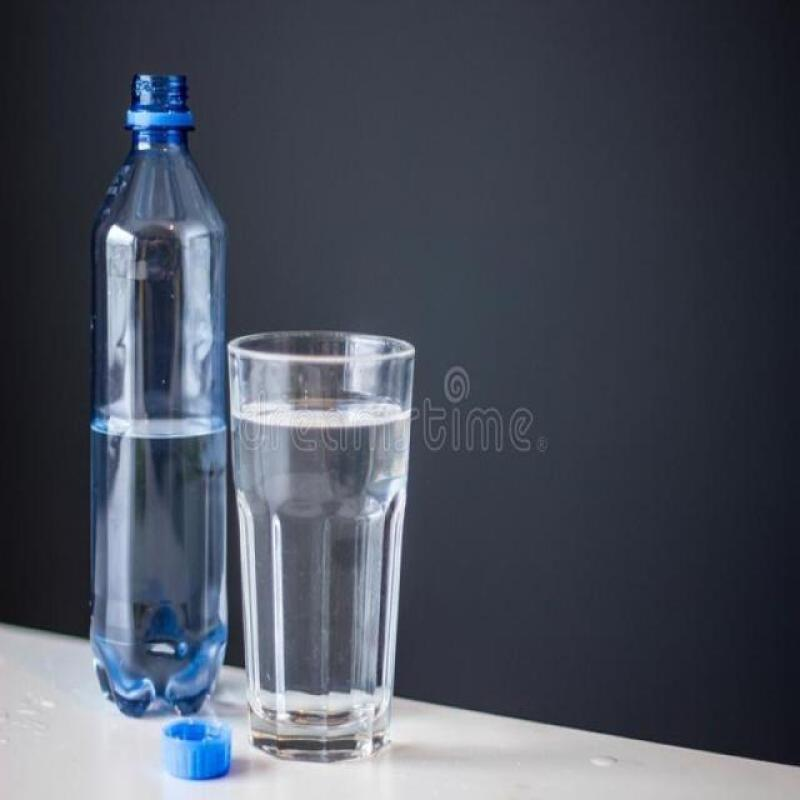botella: (93, 75, 228, 716)
